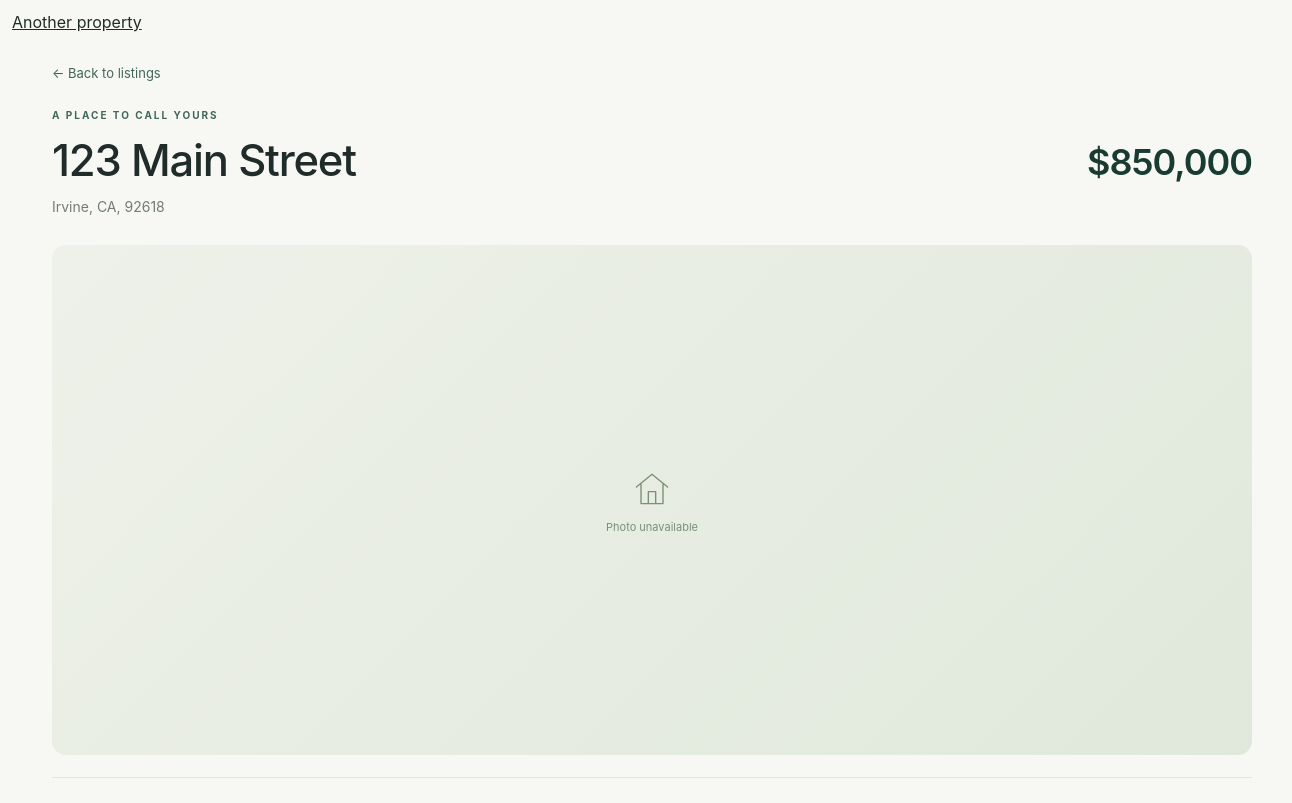
Test case: immediately hides the previous property while the next property loads
The width and height of the screenshot is (1292, 803).
Later steps or results of the test are not shown.
Check: the heading "123 Main Street" is shown, box [52, 135, 356, 186]
Step 1. Click the link "Another property" → (77,22), box [12, 12, 142, 32]
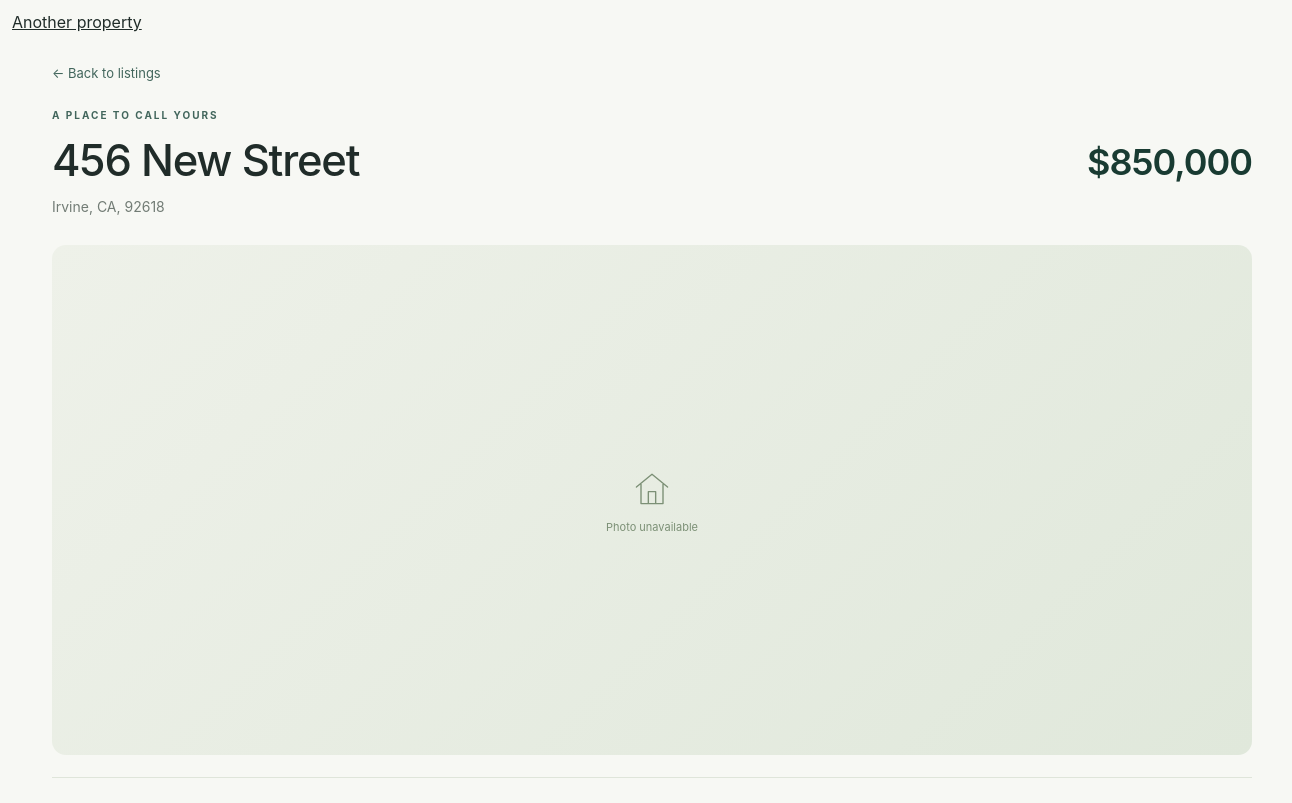
Check: the heading "123 Main Street" is gone
Check: the heading "456 New Street" is shown, box [52, 135, 359, 186]
